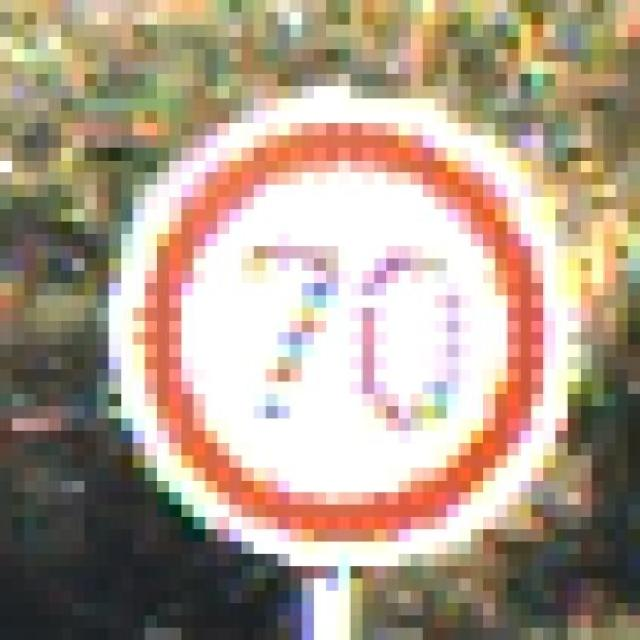forb_speed_over_70: (117, 105, 568, 569)
